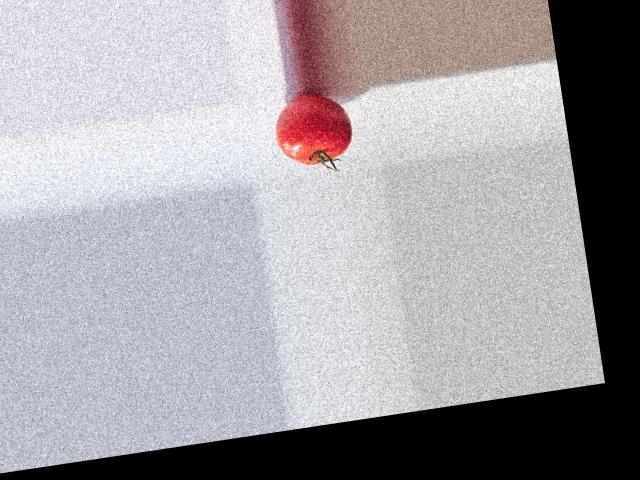tomato: (270, 87, 355, 168)
